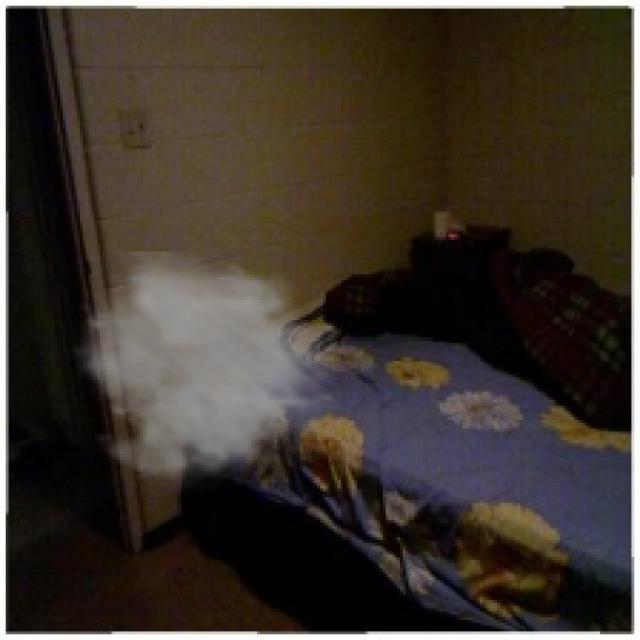smoke: (68, 252, 346, 497)
